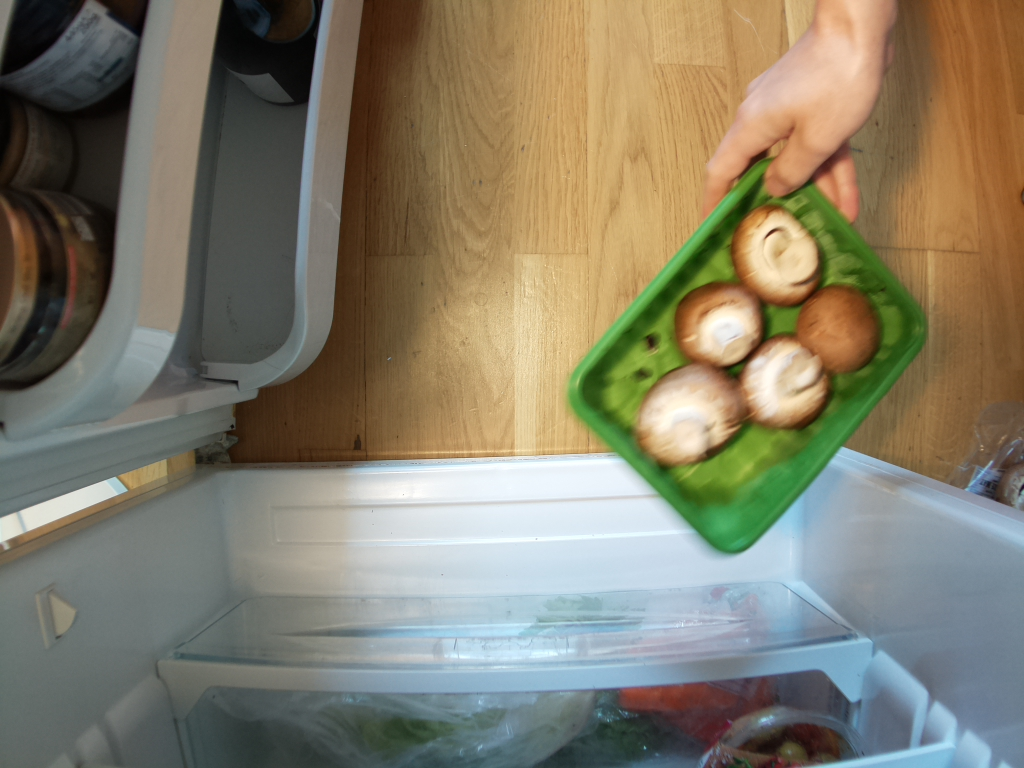mushrooms: (569, 149, 934, 556)
